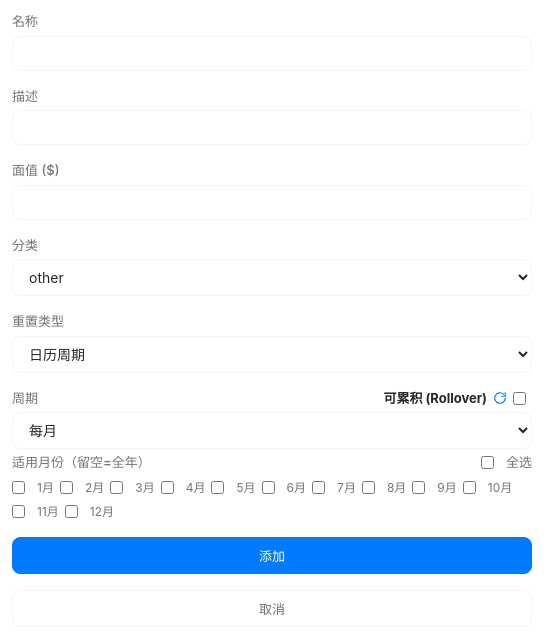
Test: BenefitEditor › hides rollover fields for non-calendar reset types
The image size is (549, 632).
Select "周年" in the dropdown with test id "reset-type-select" at (272, 354), box [12,336,532,372]
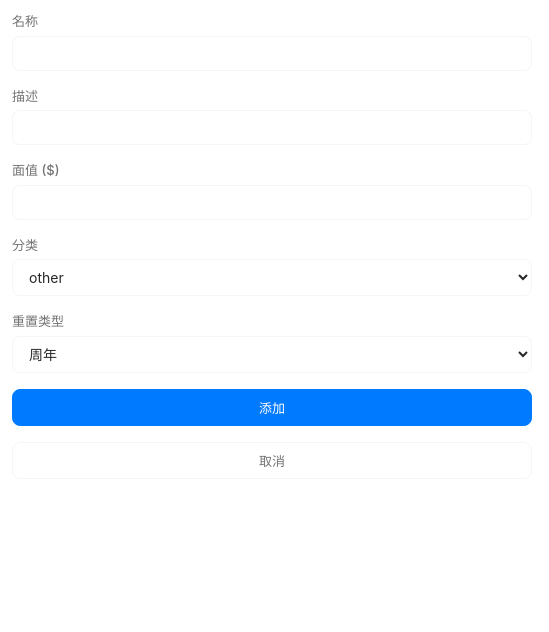
Result: the label with test id "rollover-field" is gone
